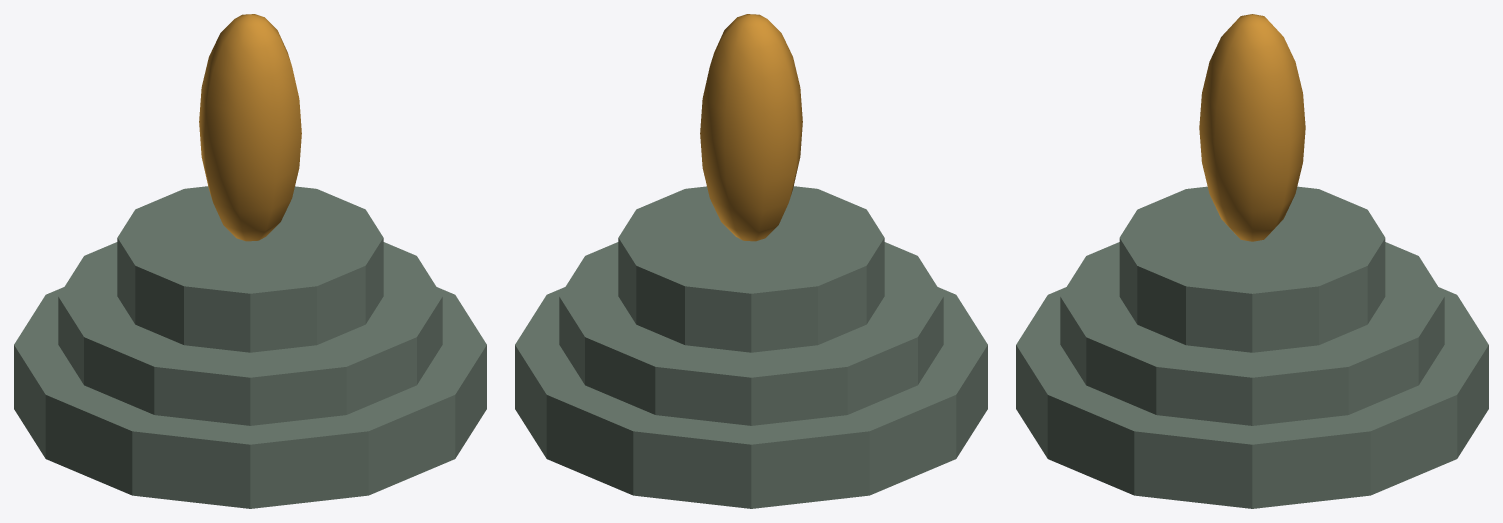
Rendered from altar.glb.
3 renders of one model, left to right at view 1: azimuth 30°, elevation 25°; view 2: azimuth 150°, elevation 25°; view 3: azimuth 270°, elevation 25°, orthographic.
Parts seen in each view (by area): view 1: SM_altar; view 2: SM_altar; view 3: SM_altar.
Boxes of the visible parts, left/top/right/bottom form: SM_altar: left=14, top=14, right=486, bottom=508; SM_altar: left=515, top=14, right=987, bottom=508; SM_altar: left=1016, top=14, right=1488, bottom=508.
Size of the model in its own units: 1.6 by 1.47 by 1.6.
